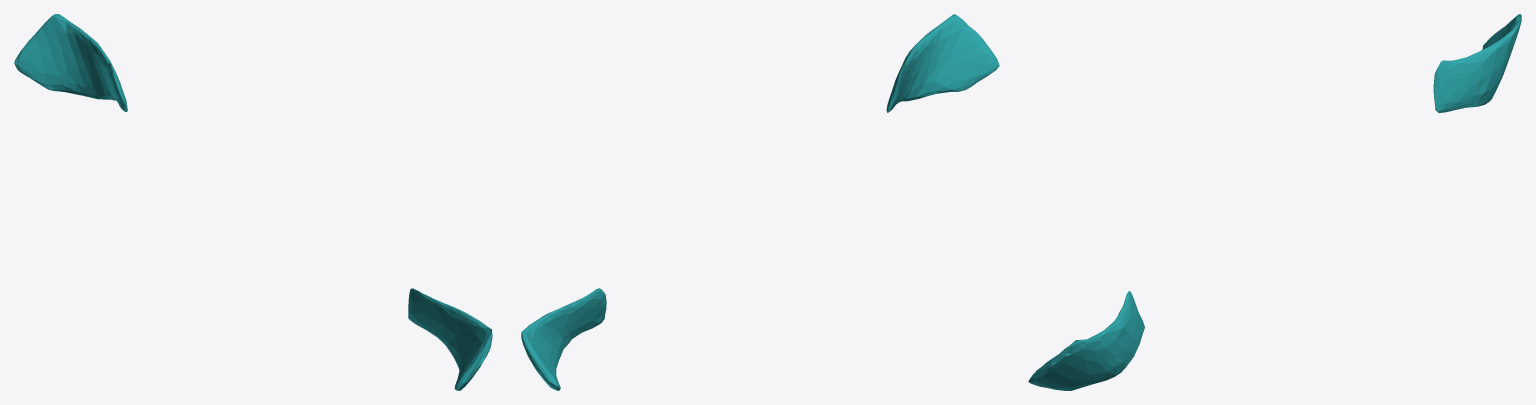
3 views of the same model, side by side, from view 1: azimuth 30°, elevation 25°; view 2: azimuth 150°, elevation 25°; view 3: azimuth 330°, elevation 25° (orthographic). The views are drawn at different scales.
Parts seen in each view (by area): view 1: 750.obj; view 2: 750.obj; view 3: 750.obj.
Part boxes in pixels (x1,y1,x2,y2): 750.obj: [14, 14, 492, 390]; 750.obj: [521, 14, 999, 390]; 750.obj: [1028, 14, 1521, 390].
Bounding box in the file's own units: 508 × 608 × 7788.
